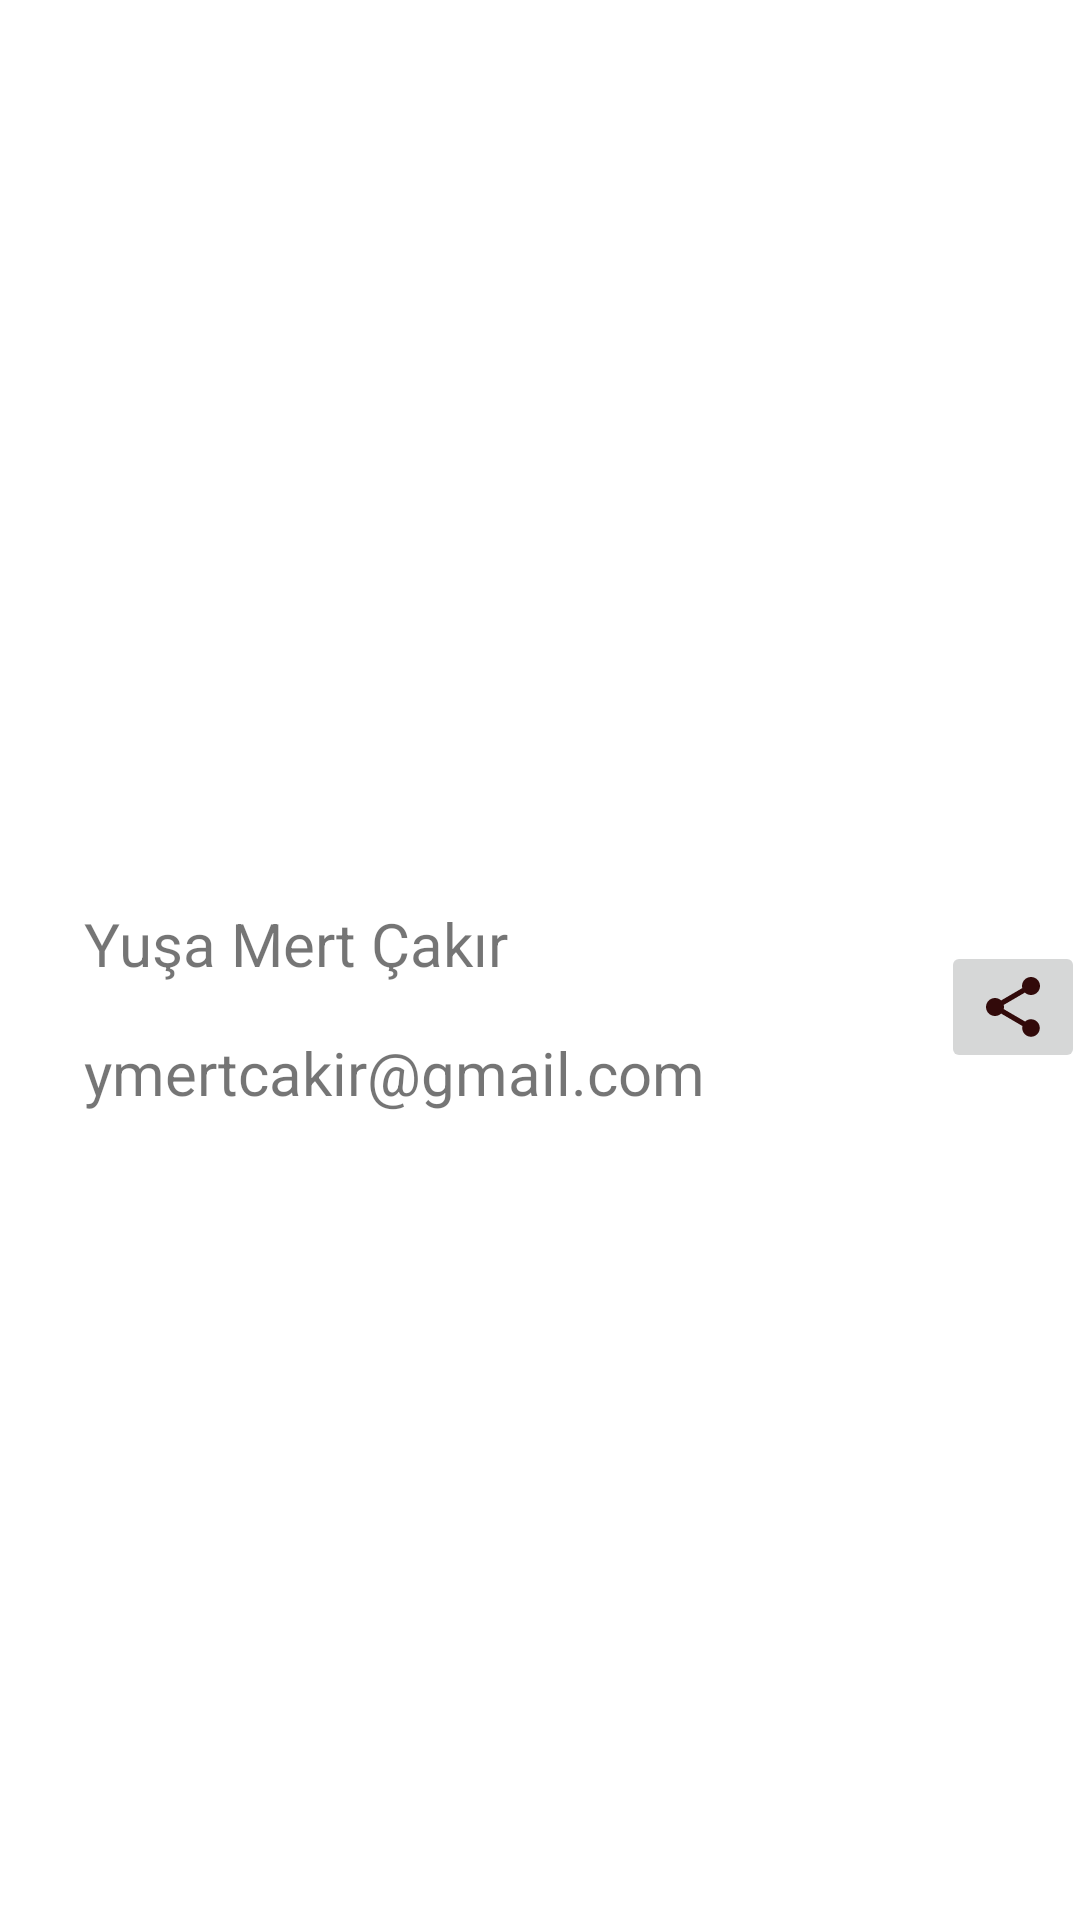

Named icons in this screenshot (1080px×1920px) and their centers, (x,y):
share: (1013,1007)
